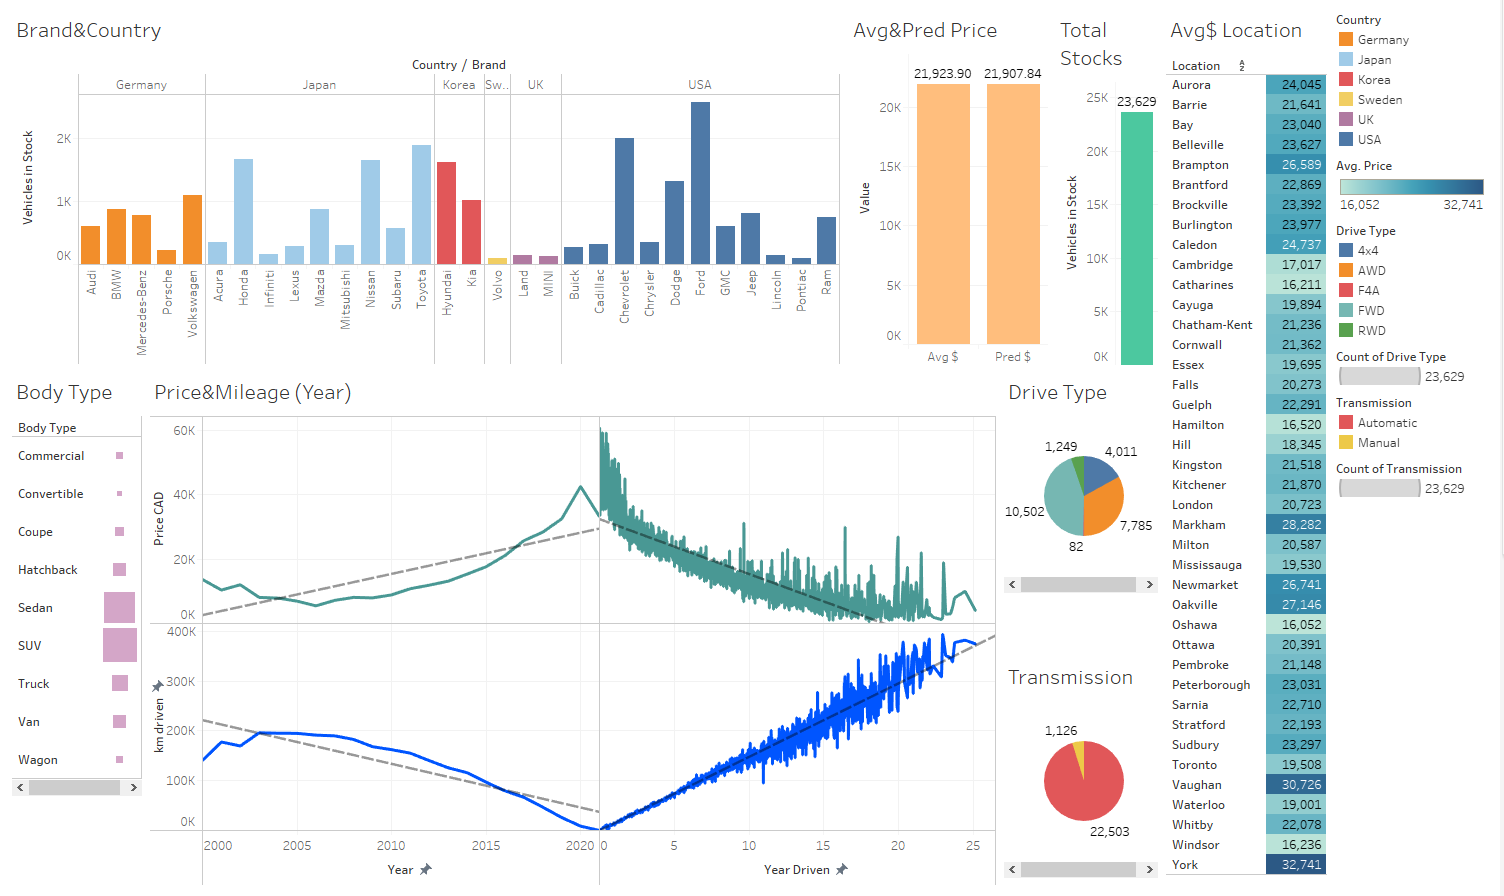

The page's visual inventory and layout, read from the dashboard file:
{"tool":"tableau","page":{"name":"Dashboard 1","canvas":[1500,900],"ordinal":0},"visuals":[{"type":"worksheet","box":[0,0,1500,900]},{"type":"worksheet","param":"horz","box":[8,8,1484,884]},{"type":"worksheet","box":[8,8,1154,884]},{"type":"worksheet","title":"Brand&Country","mark":"Automatic","rows":["brand"],"cols":["country","brand"],"box":[8,8,836.9,362]},{"type":"worksheet","title":"Avg&Pred Price","mark":"Automatic","box":[844.8,8,207.1,362]},{"type":"worksheet","title":"Total Stocks","mark":"Automatic","rows":["vehicle_id"],"box":[1051.9,8,110.1,362]},{"type":"worksheet","title":"Avg$ Location","mark":"Square","rows":["location"],"box":[1162,8,170,884]},{"type":"worksheet","param":"vert","box":[1332,8,160,884]},{"type":"worksheet","title":"Brand&Country","mark":"Automatic","rows":["brand"],"cols":["country","brand"],"param":"[federated.08fp3o711nwfap1dwgv831dn2kw4].[none:country:nk]","box":[1332,8,160,146]},{"type":"worksheet","title":"Avg$ Location","mark":"Square","rows":["location"],"param":"[federated.08fp3o711nwfap1dwgv831dn2kw4].[avg:price:qk]","box":[1332,154,160,65]},{"type":"worksheet","title":"Drive Type","mark":"Pie","param":"[federated.08fp3o711nwfap1dwgv831dn2kw4].[none:drive_type:nk]","box":[1332,219,160,126]},{"type":"worksheet","title":"Drive Type","mark":"Pie","param":"[federated.08fp3o711nwfap1dwgv831dn2kw4].[cnt:drive_type:qk]","box":[1332,345,160,46]},{"type":"worksheet","title":"Body Type","mark":"Automatic","rows":["body_type"],"box":[8,370,138,522]},{"type":"worksheet","title":"Price&Mileage (Year)","mark":"Automatic","rows":["price","mileage"],"cols":["year","real_year"],"box":[146,370,854,522]},{"type":"worksheet","title":"Drive Type","mark":"Pie","box":[1000,370,162,285]},{"type":"worksheet","title":"Transmission","mark":"Pie","param":"[federated.08fp3o711nwfap1dwgv831dn2kw4].[none:transmission:nk]","box":[1332,391,160,66]},{"type":"worksheet","title":"Transmission","mark":"Pie","param":"[federated.08fp3o711nwfap1dwgv831dn2kw4].[cnt:transmission:qk]","box":[1332,457,160,46]},{"type":"worksheet","title":"Transmission","mark":"Pie","box":[1000,655,162,237]}]}

Visuals, with their boxes in screenshot pixels (x1, y1, x2, y2), scaled from the page's 1500x900 canvas onto the 1504x896 screenshot:
worksheet: locate(0, 0, 1503, 895)
worksheet: locate(8, 8, 1496, 888)
worksheet: locate(8, 8, 1165, 888)
"Brand&Country" worksheet: locate(8, 8, 847, 368)
"Avg&Pred Price" worksheet: locate(847, 8, 1055, 368)
"Total Stocks" worksheet: locate(1055, 8, 1165, 368)
"Avg$ Location" worksheet (Square marks): locate(1165, 8, 1336, 888)
worksheet: locate(1336, 8, 1496, 888)
"Brand&Country" worksheet: locate(1336, 8, 1496, 153)
"Avg$ Location" worksheet (Square marks): locate(1336, 153, 1496, 218)
"Drive Type" worksheet (Pie marks): locate(1336, 218, 1496, 343)
"Drive Type" worksheet (Pie marks): locate(1336, 343, 1496, 389)
"Body Type" worksheet: locate(8, 368, 146, 888)
"Price&Mileage (Year)" worksheet: locate(146, 368, 1003, 888)
"Drive Type" worksheet (Pie marks): locate(1003, 368, 1165, 652)
"Transmission" worksheet (Pie marks): locate(1336, 389, 1496, 455)
"Transmission" worksheet (Pie marks): locate(1336, 455, 1496, 501)
"Transmission" worksheet (Pie marks): locate(1003, 652, 1165, 888)
